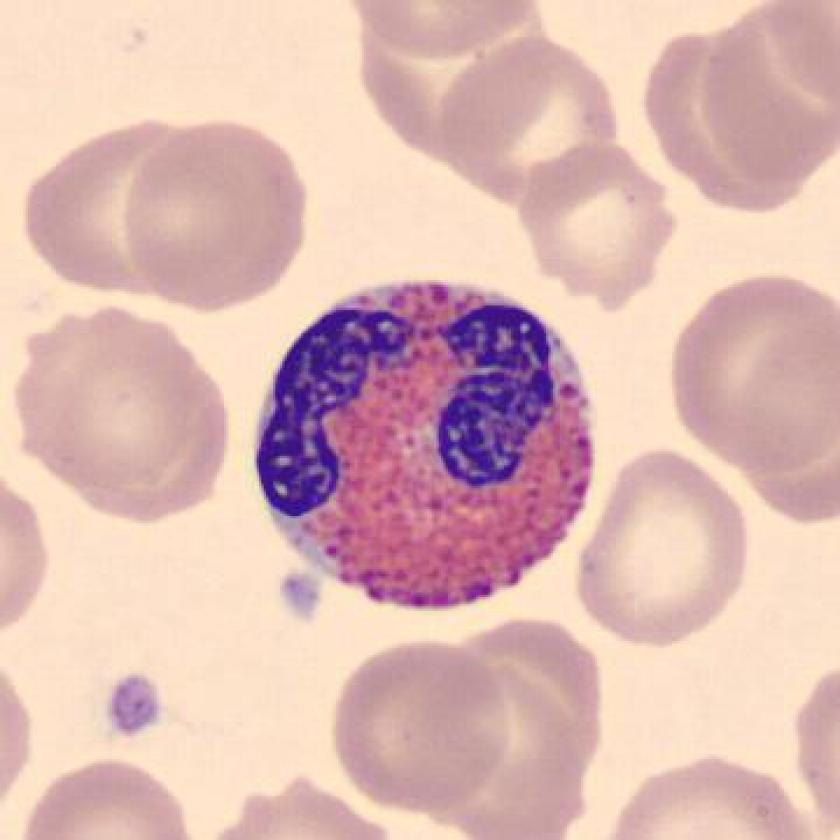eosinophil: (246, 267, 610, 626)
